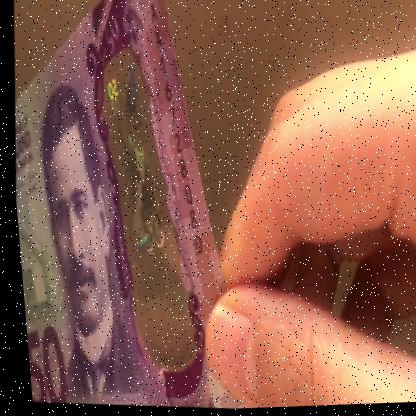50F: (86, 57, 187, 336)
